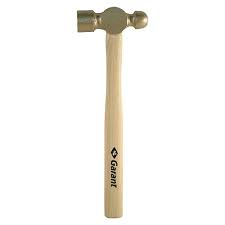hammer: (76, 6, 148, 219)
